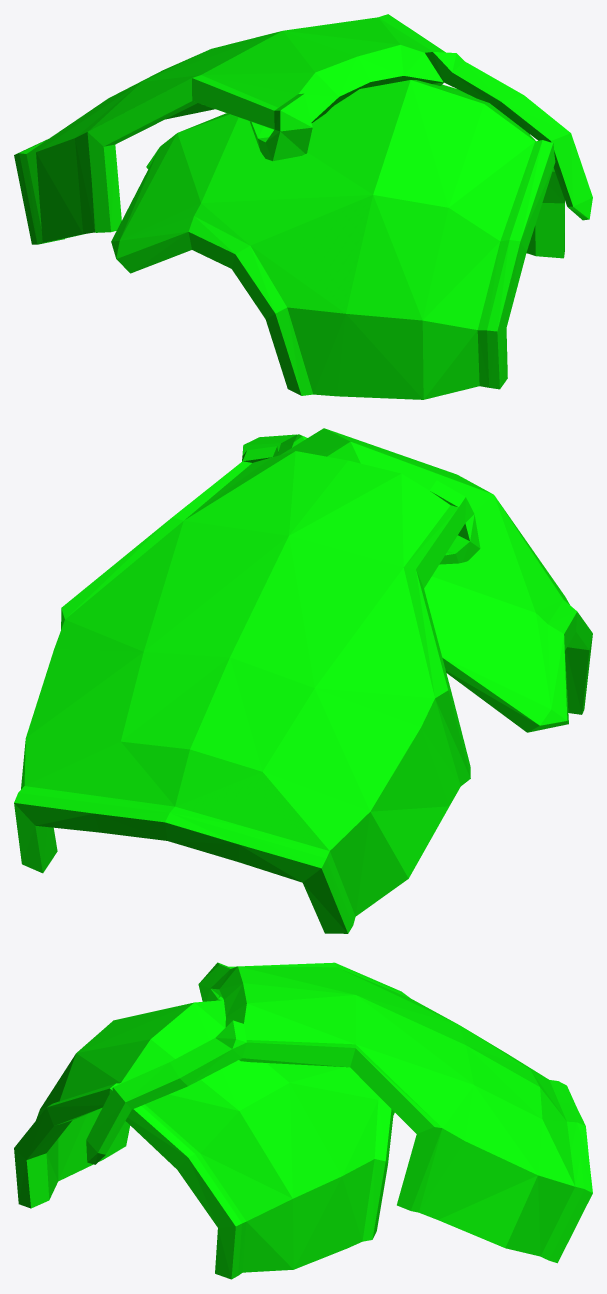
File: SM_Armor_Torso_A_Placed_Fantasy.fbx
The picture shows the model from 3 angles, top to bottom: view 1: azimuth 30°, elevation 25°; view 2: azimuth 150°, elevation 25°; view 3: azimuth 270°, elevation 25°; orthographic projection. The views are drawn at different scales.
Visible parts, largest first — view 1: armor-torso-a-placed-fantasy; view 2: armor-torso-a-placed-fantasy; view 3: armor-torso-a-placed-fantasy.
Part boxes in pixels (box(x1,y1,x2,y2)): armor-torso-a-placed-fantasy: box(14, 14, 592, 399); armor-torso-a-placed-fantasy: box(14, 428, 592, 933); armor-torso-a-placed-fantasy: box(14, 962, 592, 1279).
Bounding box in the file's own units: 0.4445 × 0.2716 × 0.5982.
